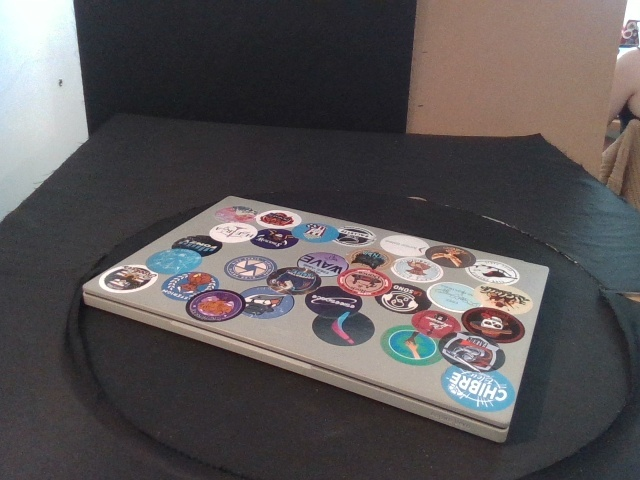laptop: (81, 196, 550, 444)
